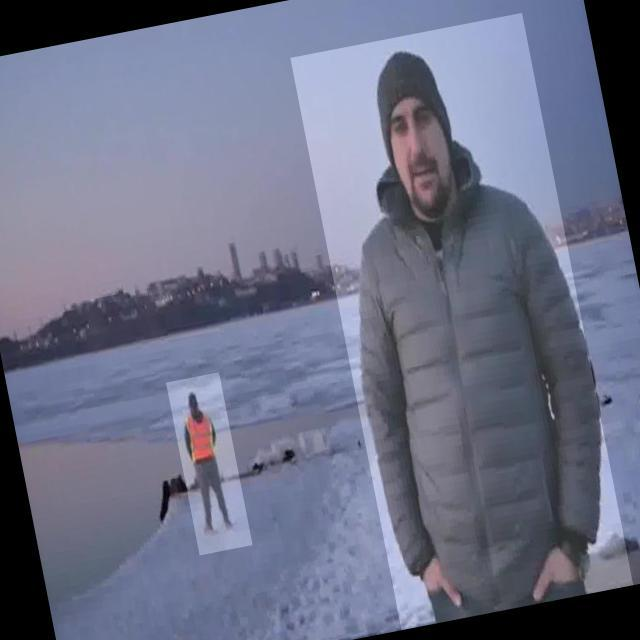Person: (328, 21, 624, 630), (160, 372, 252, 559)
Safety Boot: (219, 510, 239, 536), (203, 515, 221, 542)
Safety Vest: (182, 410, 221, 467)
bare-arms: (516, 532, 597, 610), (407, 547, 469, 616)
no-helmet: (368, 42, 458, 164), (183, 389, 202, 406)
no-vest: (353, 140, 610, 614)
